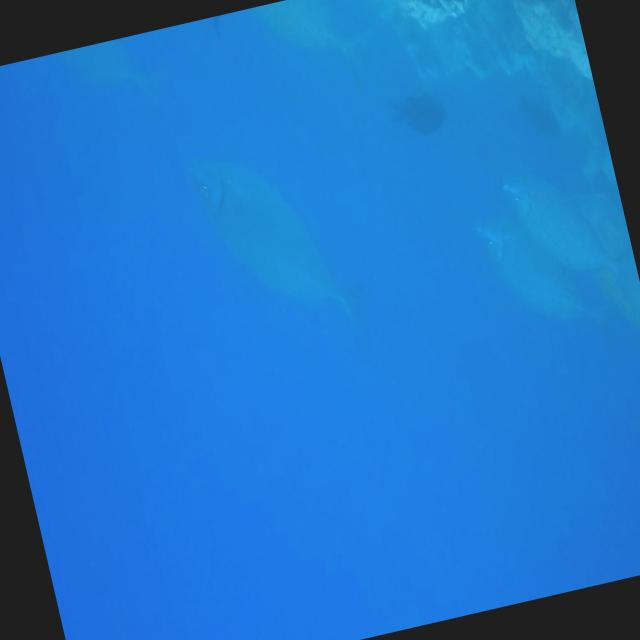Sokar Baligi: (175, 108, 388, 390)
